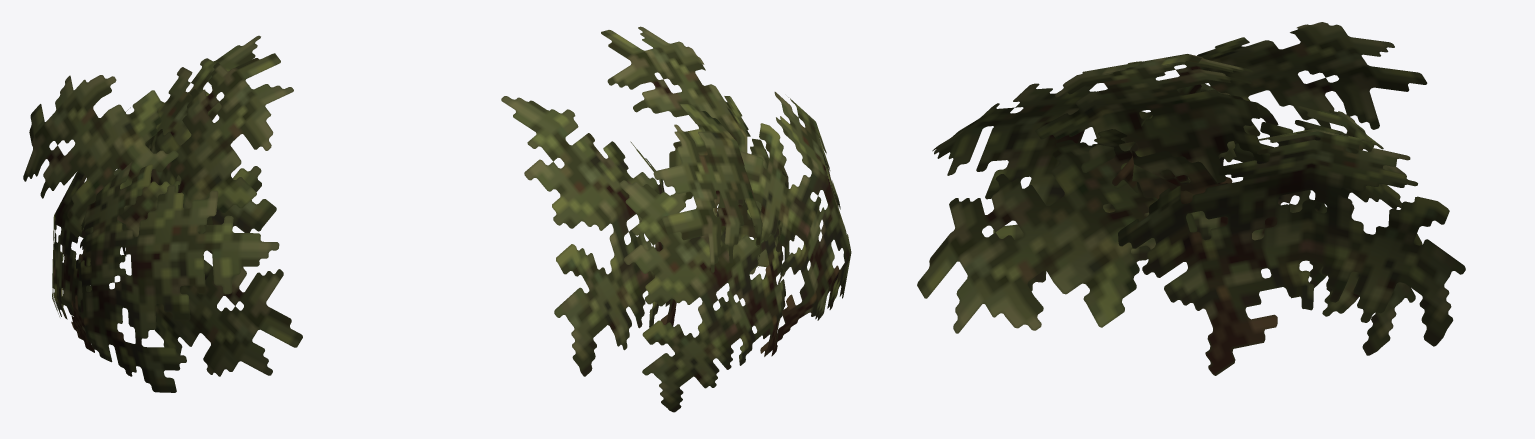
File: EnvFldMD_Tree_E_SA.FBX
3 views of the same model, side by side, from view 1: azimuth 30°, elevation 25°; view 2: azimuth 150°, elevation 25°; view 3: azimuth 270°, elevation 25° (orthographic). The views are drawn at different scales.
Parts seen in each view (by area): view 1: EnvFldMD_Tree_E_SA; view 2: EnvFldMD_Tree_E_SA; view 3: EnvFldMD_Tree_E_SA.
Part boxes in pixels (x1=…): EnvFldMD_Tree_E_SA: x1=23, y1=35, x2=302, y2=392; EnvFldMD_Tree_E_SA: x1=501, y1=26, x2=851, y2=412; EnvFldMD_Tree_E_SA: x1=917, y1=22, x2=1465, y2=375.
Size of the model in its own units: 150 by 158 by 219.
1 material, 1 textured.
